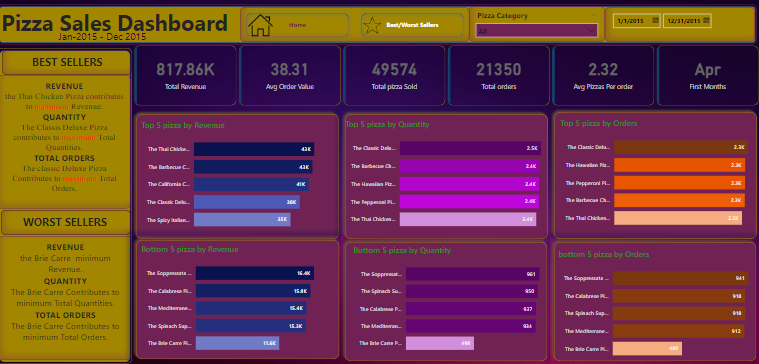

The page's visual inventory and layout, read from the dashboard file:
{"tool":"powerbi","page":{"name":"Best/Worst Sellers","canvas":[1680,810],"ordinal":1},"visuals":[{"type":"cardVisual","fields":{"Data":["pizza_sales.Total Revenue","pizza_sales.Avg Order Value","pizza_sales.Total pizza Sold","pizza_sales.Total orders","pizza_sales.Avg Pizzas Per order","Min(Calendar.Months)"]},"box":[297.2,98.4,1389.8,143.7],"z":0},{"type":"shape","box":[0,13.8,1673.2,88.6],"z":1000},{"type":"textbox","box":[4.4,15.5,577.7,88.5],"z":2000},{"type":"textbox","box":[130.6,64.2,225.8,39.8],"z":3000},{"type":"shape","box":[297.2,246.1,464.6,293.3],"z":4000},{"type":"shape","box":[0,110.7,296.6,695],"z":5000},{"type":"textbox","box":[11.1,115.1,285.5,55.3],"z":6000},{"type":"textbox","box":[2.2,524.6,294.4,272.3],"z":7000},{"type":"textbox","box":[8.9,467,285.5,55.3],"z":8000},{"type":"textbox","box":[0,170.4,294.4,294.4],"z":9000},{"type":"slicer","fields":{"Values":["pizza_sales.pizza_category"]},"box":[1040.3,17.7,298.8,79],"z":10000},{"type":"slicer","fields":{"Values":["Calendar.Date"]},"box":[1339.1,19.9,330,77.5],"z":11000},{"type":"shape","box":[1218.5,242.1,464.6,297.2],"z":12000},{"type":"shape","box":[297.6,524.7,465.2,280],"z":13000},{"type":"barChart","title":"Top 5 pizza by Revenue","fields":{"Category":["pizza_sales.pizza_name"],"Y":["pizza_sales.Total Revenue"]},"box":[313,265.7,431.1,257.9],"z":14000},{"type":"barChart","title":"Bottom 5 pizza by Revenue","fields":{"Category":["pizza_sales.pizza_name"],"Y":["pizza_sales.Total Revenue"]},"box":[312.1,540.1,447.1,256.8],"z":15000},{"type":"shape","box":[757.9,246.1,464.6,293.3],"z":16000},{"type":"shape","box":[1217,529.1,463,280],"z":17000},{"type":"shape","box":[758.4,529.1,463,280],"z":18000},{"type":"barChart","title":"Top 5 pizza by Quantity","fields":{"Category":["pizza_sales.pizza_name"],"Y":["pizza_sales.Total pizza Sold"]},"box":[761.8,263.8,446.9,259.8],"z":19000},{"type":"barChart","title":"Bottom 5 pizza by Quantity","fields":{"Category":["pizza_sales.pizza_name"],"Y":["pizza_sales.Total pizza Sold"]},"box":[779.1,542.3,431.6,254.5],"z":20000},{"type":"barChart","title":"Top 5 pizza by Orders","fields":{"Category":["pizza_sales.pizza_name"],"Y":["pizza_sales.Total orders"]},"box":[1235.1,261.2,444.9,259],"z":21000},{"type":"barChart","title":"bottom 5 pizza by Orders","fields":{"Category":["pizza_sales.pizza_name"],"Y":["pizza_sales.Total orders"]},"box":[1230.2,551.2,447.6,258],"z":22000},{"type":"pageNavigator","box":[535.7,19.9,504.7,77.5],"z":23000},{"type":"image","box":[548.9,24.3,64.2,70.8],"z":24000},{"type":"image","box":[788,35.4,77.5,48.7],"z":25000}]}

Visuals, with their boxes in screenshot pixels (x1, y1, x2, y2), scaled from the page's 1680x810 canvas onto the 759x364 screenshot:
cardVisual - pizza_sales.Total Revenue x pizza_sales.Avg Order Value: 134:44:758:109
shape: 0:6:756:46
textbox: 2:7:263:47
textbox: 59:29:161:47
shape: 134:111:344:242
shape: 0:50:134:362
textbox: 5:52:134:77
textbox: 1:236:134:358
textbox: 4:210:133:235
textbox: 0:77:133:209
slicer - pizza_sales.pizza_category: 470:8:605:43
slicer - Calendar.Date: 605:9:754:44
shape: 551:109:758:242
shape: 134:236:345:362
"Top 5 pizza by Revenue" barChart: 141:119:336:235
"Bottom 5 pizza by Revenue" barChart: 141:243:343:358
shape: 342:111:552:242
shape: 550:238:758:363
shape: 343:238:552:363
"Top 5 pizza by Quantity" barChart: 344:119:546:235
"Bottom 5 pizza by Quantity" barChart: 352:244:547:358
"Top 5 pizza by Orders" barChart: 558:117:758:234
"bottom 5 pizza by Orders" barChart: 556:248:758:363
pageNavigator: 242:9:470:44
image: 248:11:277:43
image: 356:16:391:38
